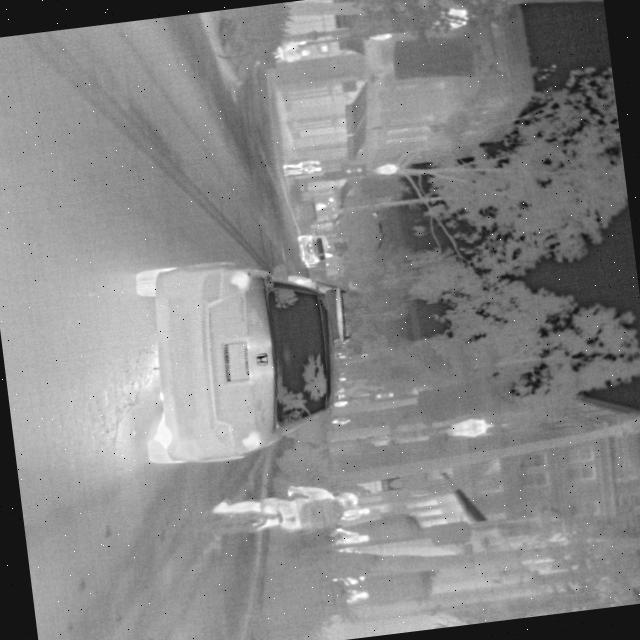Pedestrian: (205, 474, 366, 548), (316, 524, 371, 551), (261, 44, 310, 66), (332, 503, 370, 523), (279, 164, 321, 179), (336, 586, 369, 604), (268, 37, 306, 52), (279, 158, 320, 171)
Vehicle: (121, 242, 366, 474)
